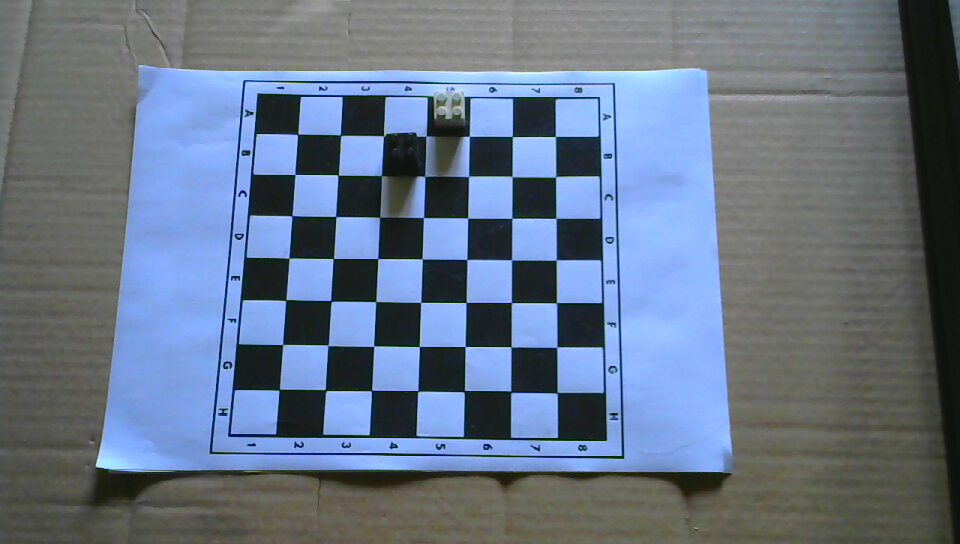bp: (384, 132, 419, 167)
wp: (432, 92, 466, 128)
